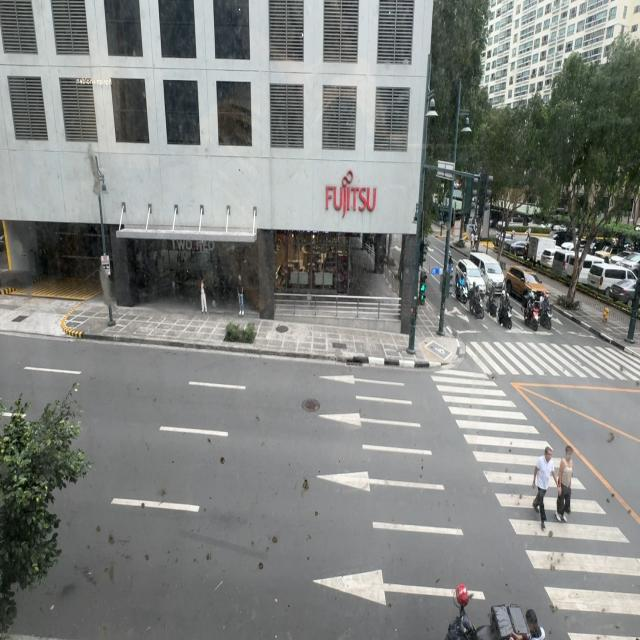crossing: (532, 446, 560, 532), (555, 446, 573, 522)
pedestrain: (237, 274, 245, 316), (200, 278, 208, 314)
